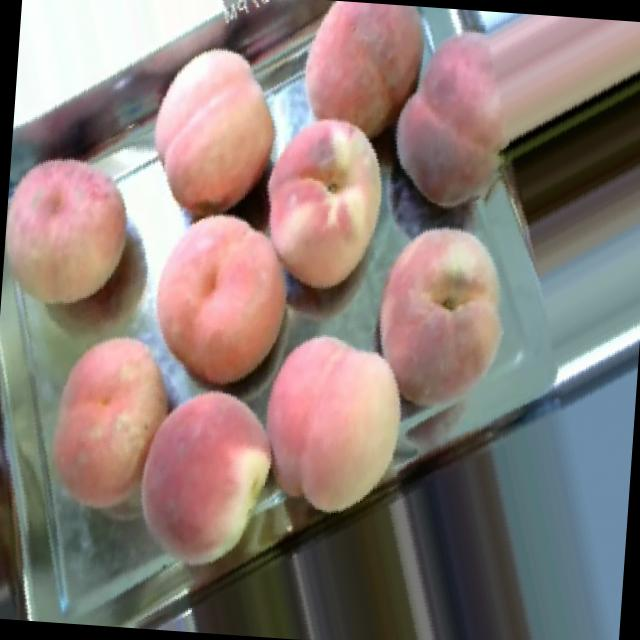Fruit: (356, 3, 640, 247), (342, 198, 542, 440), (259, 308, 440, 540), (128, 194, 322, 410), (112, 366, 292, 590), (22, 312, 194, 536), (258, 100, 416, 314), (130, 27, 284, 235), (0, 135, 152, 329), (279, 0, 423, 159)
